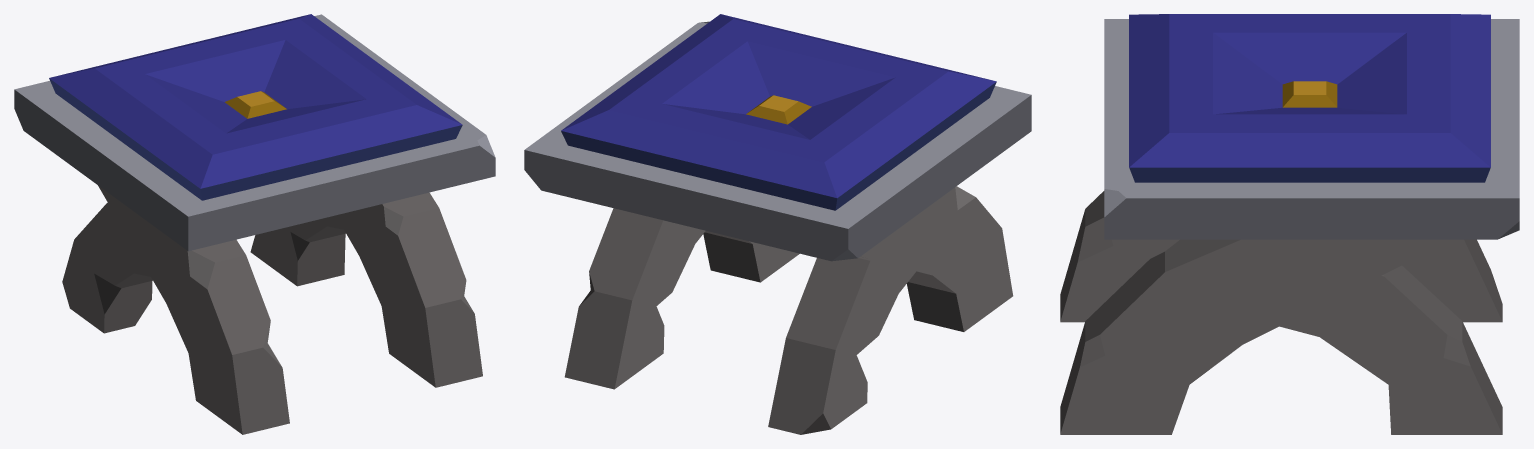
Rendered from Chair_02.glb.
3 renders of one model, left to right at view 1: azimuth 30°, elevation 25°; view 2: azimuth 150°, elevation 25°; view 3: azimuth 270°, elevation 25°, orthographic. The views are drawn at different scales.
Parts seen in each view (by area): view 1: Chair_02; view 2: Chair_02; view 3: Chair_02.
Boxes of the visible parts, <box> form: Chair_02: <box>14,14,495,434</box>; Chair_02: <box>524,14,1031,434</box>; Chair_02: <box>1060,14,1519,434</box>.
Size of what is drawn, in the model's own units: 1.11 by 0.8384 by 1.2.
Materials: 1 (1 with a texture image).
